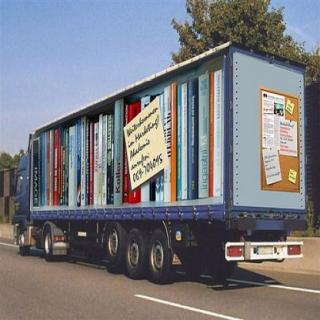Normal_vehicle: (12, 39, 310, 289)
